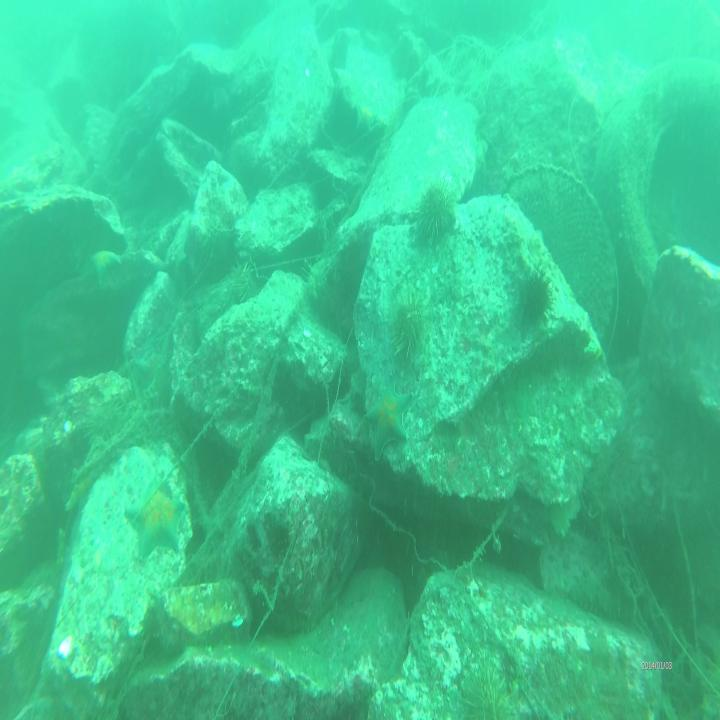echinus: (462, 658, 512, 720), (390, 286, 425, 358), (415, 180, 457, 240), (516, 262, 553, 326)
starfish: (126, 478, 186, 552), (365, 382, 417, 461), (89, 246, 120, 286), (356, 93, 379, 136)
